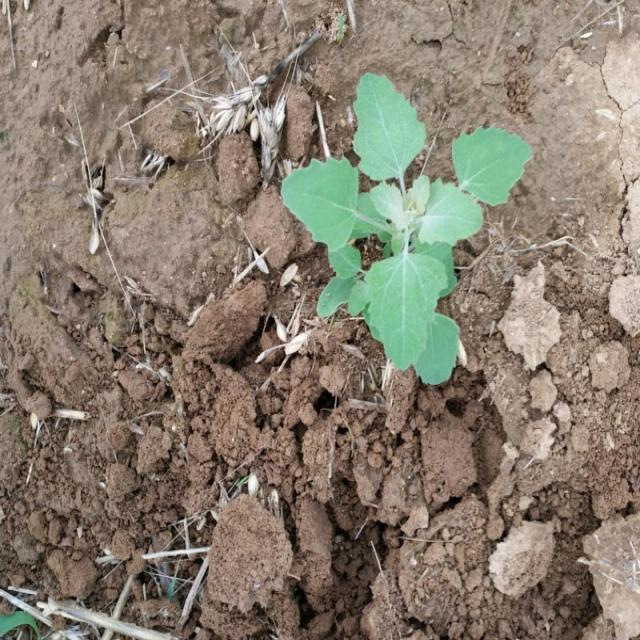goosefoots: (274, 64, 522, 411)
